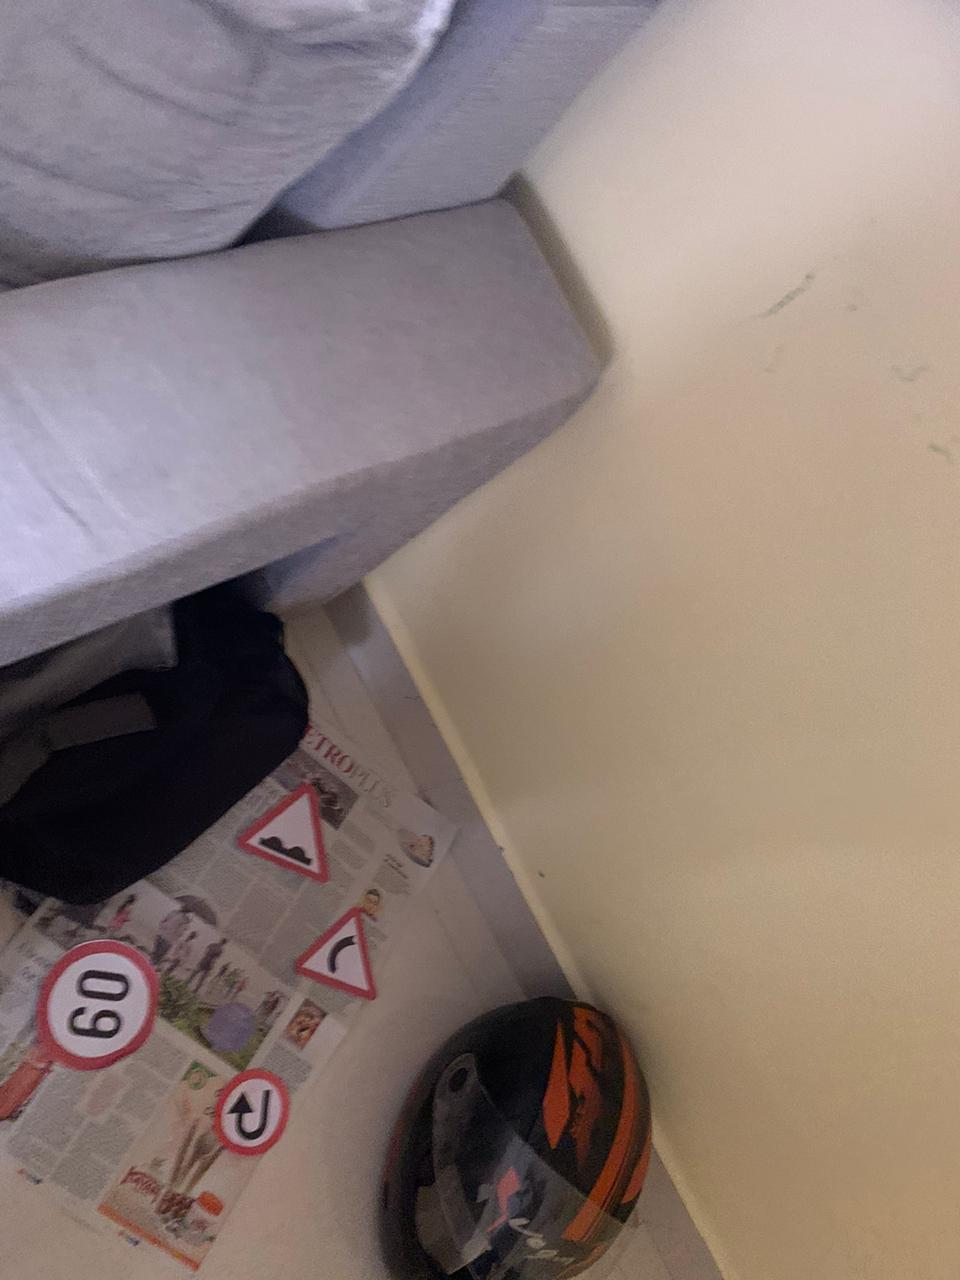LEFT CURVE: (292, 899, 401, 1008)
SPEED LIMIT (60 KM/H): (32, 930, 165, 1079)
U-TURN: (205, 1072, 294, 1153)
UNEVEN ROAD: (228, 757, 336, 888)
